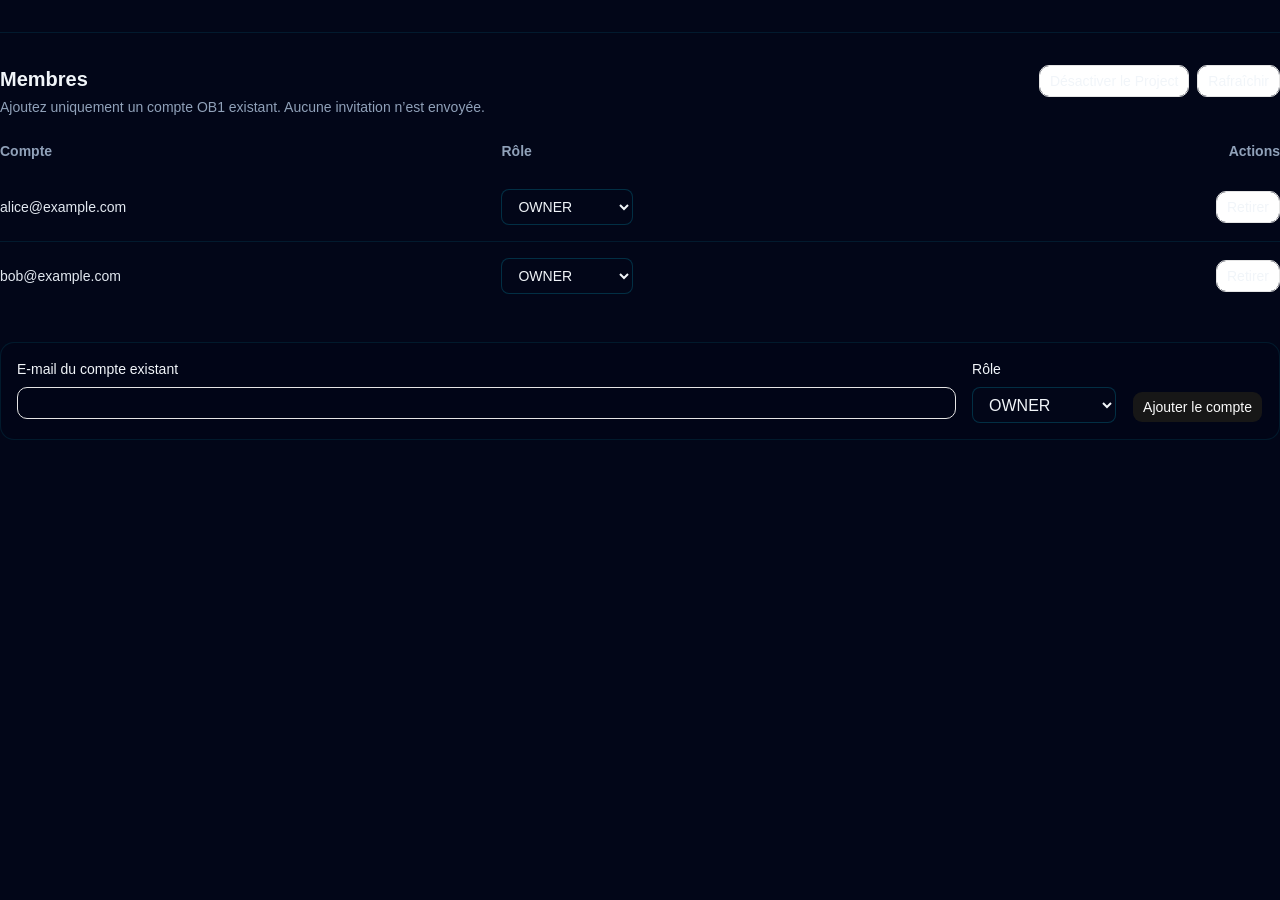
Test: ProjectMembersPanel › affiche le refus backend concurrent sans perdre la session
The width and height of the screenshot is (1280, 900).
Select "VIEWER" in the dropdown named "Rôle de alice@example.com" at point(568, 207), box [502, 189, 634, 225]
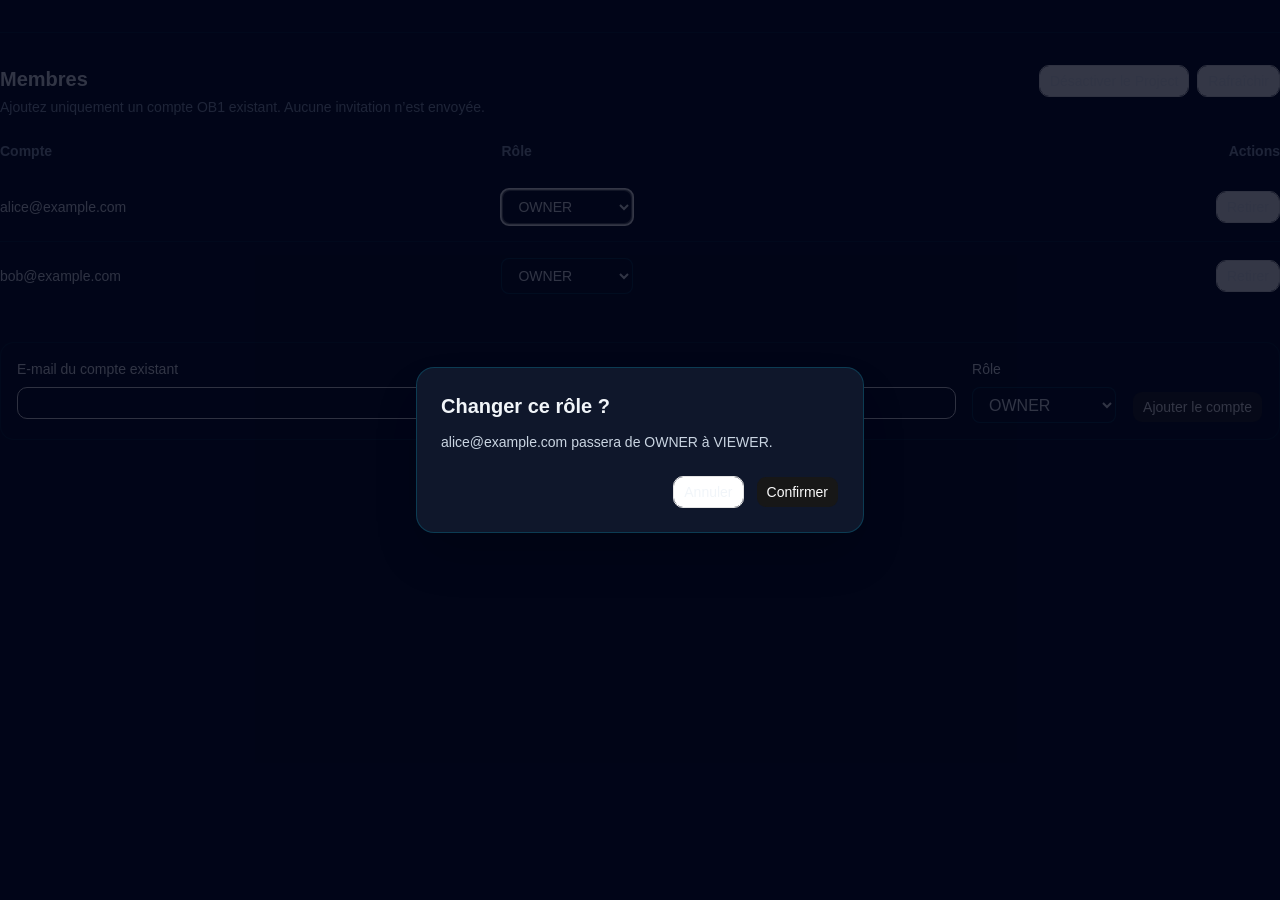
Click the button "Confirmer" at point(797, 492), box [756, 476, 839, 508]
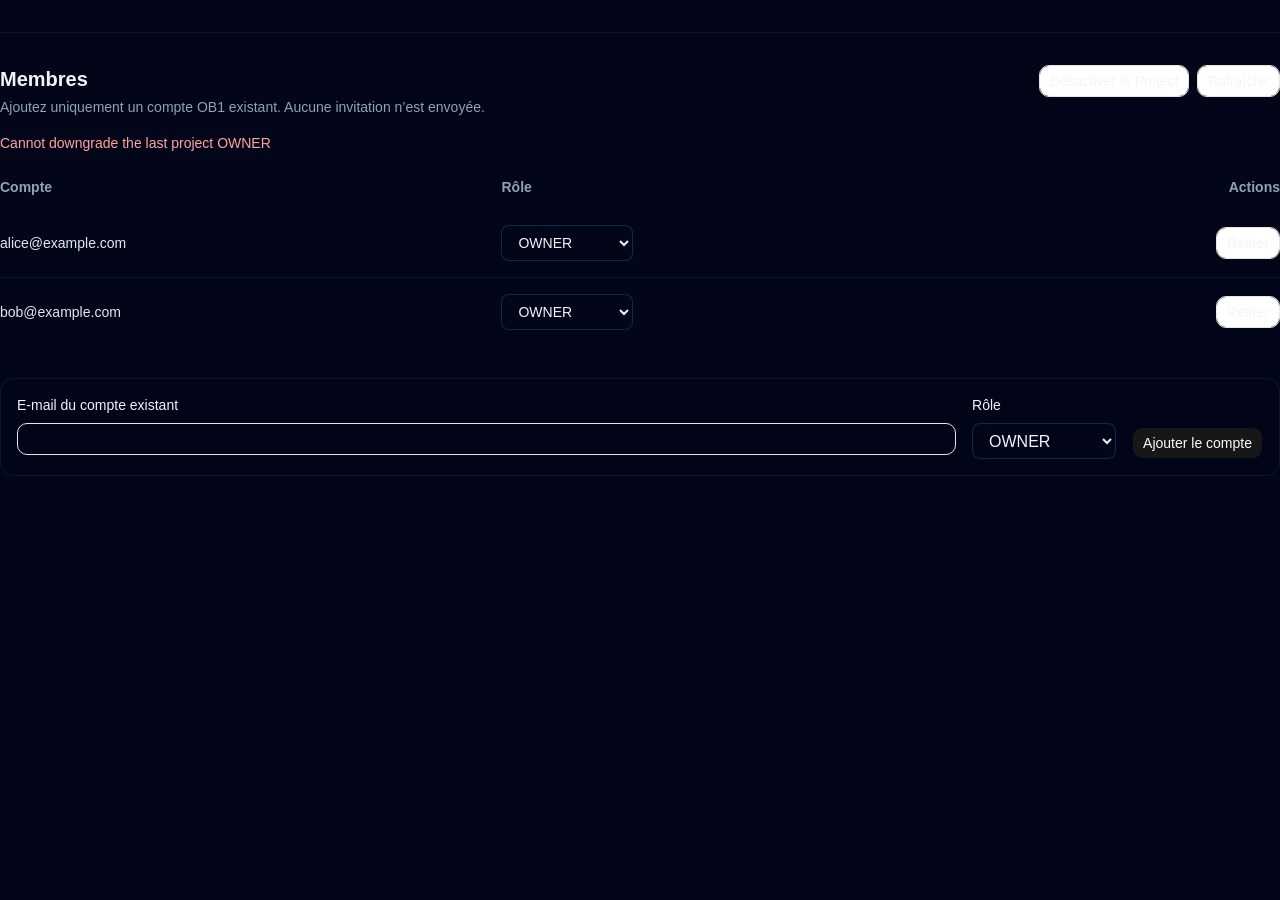
Now the message shows "last project OWNER", box [0, 135, 271, 151]
